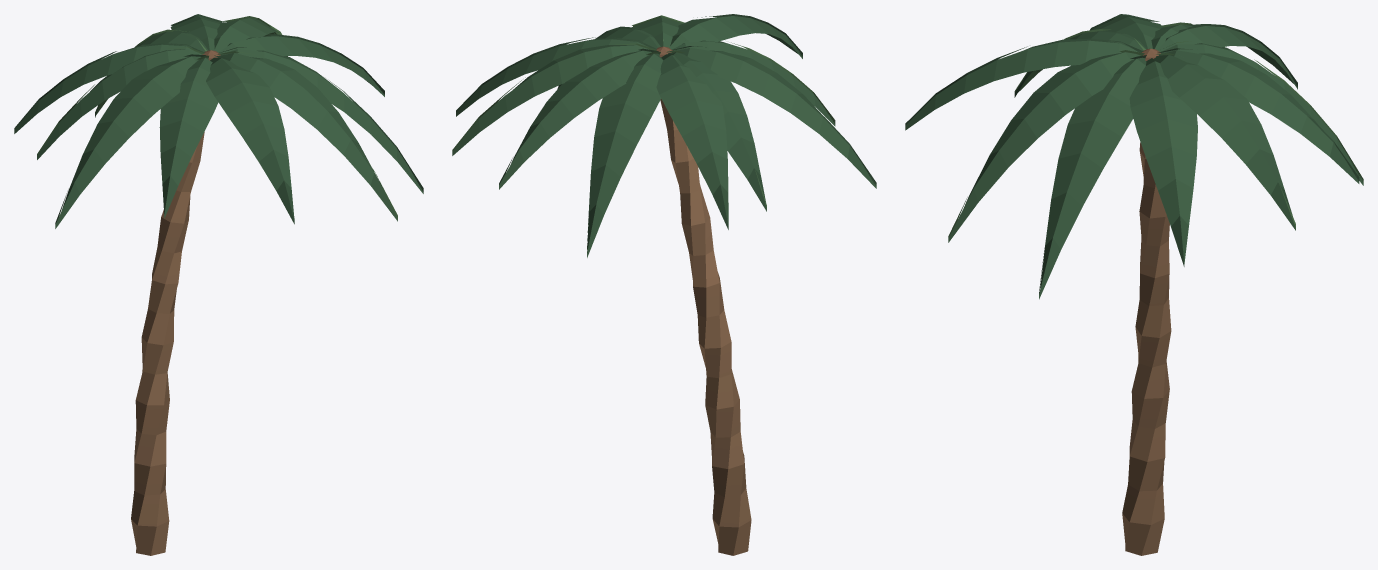
Rendered from palm.glb.
The picture shows the model from 3 angles, left to right: view 1: azimuth 30°, elevation 25°; view 2: azimuth 150°, elevation 25°; view 3: azimuth 270°, elevation 25°; orthographic projection. The views are drawn at different scales.
Visible parts, largest first — view 1: palm.001; view 2: palm.001; view 3: palm.001.
Part boxes in pixels (box(x1,y1,x2,y2)): palm.001: box(14, 14, 423, 555); palm.001: box(452, 14, 876, 555); palm.001: box(905, 14, 1363, 555).
Size of the model in its own units: 5.2 by 6.51 by 4.99.
1 material, 1 textured.
